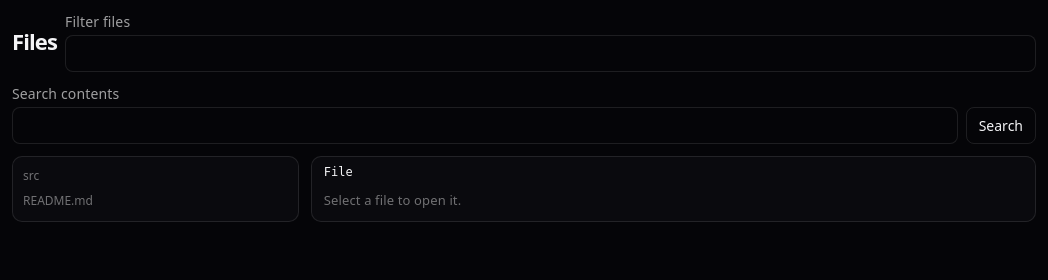
FilesPage › shows a specific error when content search fails
Type "connect" into the search field labelled "Search contents" at (485, 126), box [12,107,958,144]
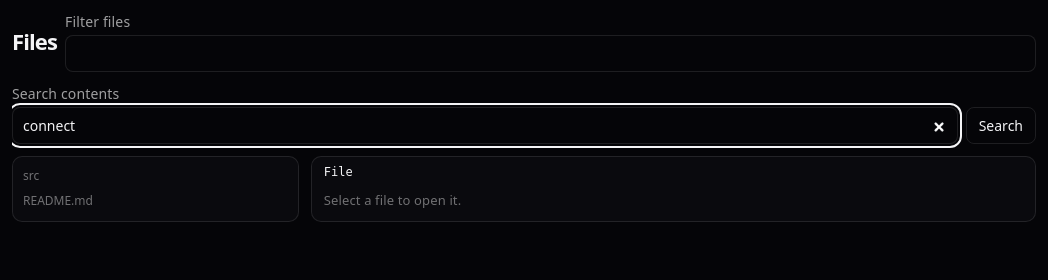
Click the button "Search" at (1001, 126), box [966,107,1036,144]
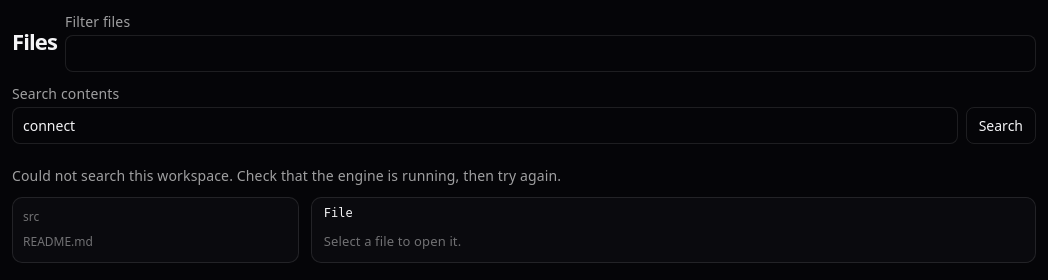
Check: the text "could not search this workspace. check that the engine is running, then try again" is shown, box [12,166,561,185]
